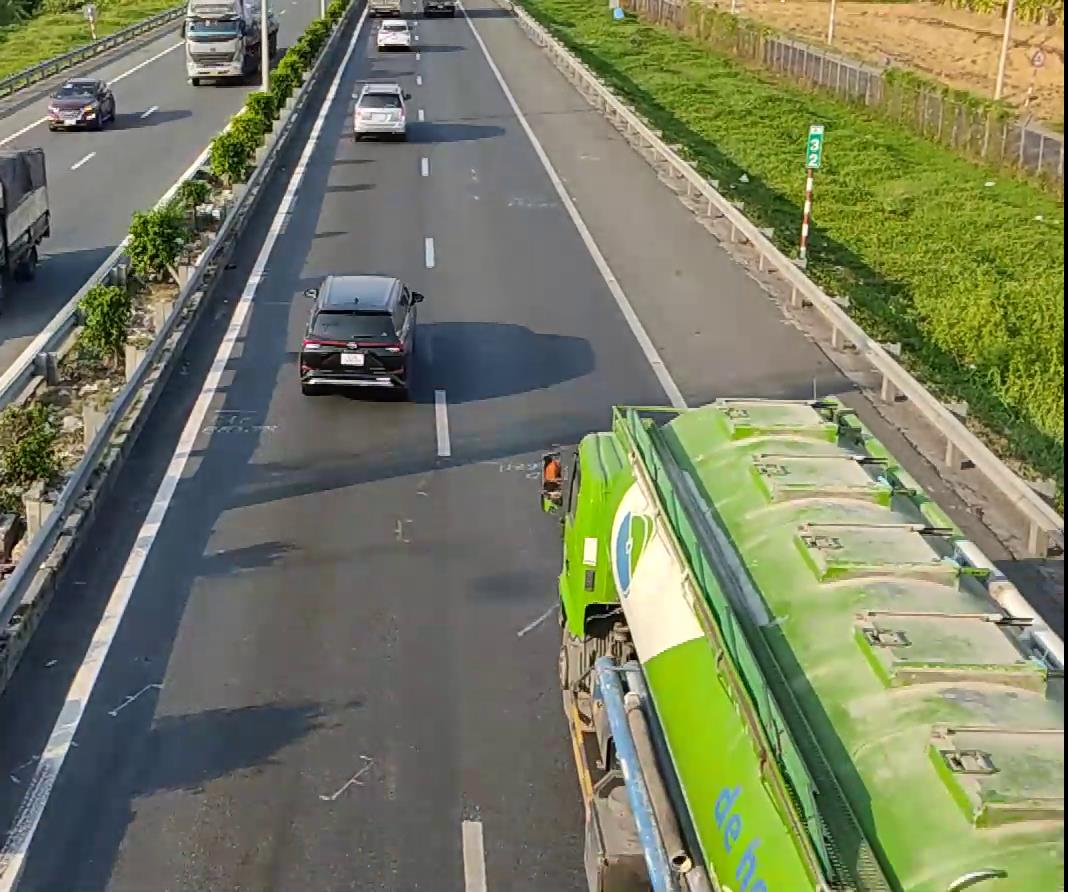car: (295, 272, 422, 397)
container: (549, 396, 1033, 884)
truck: (0, 133, 52, 329)
